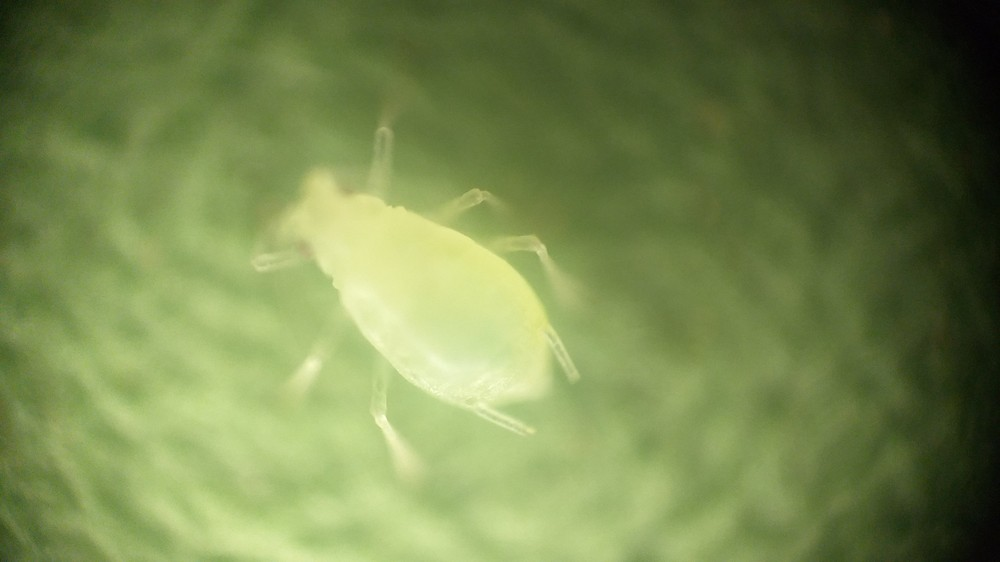Pulgon: (207, 99, 631, 519)
